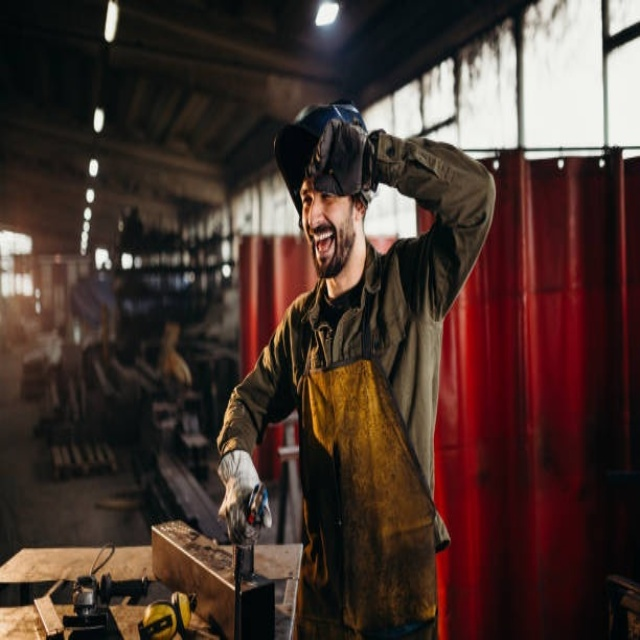Guantes: (305, 113, 385, 198), (215, 445, 272, 545)
Sin_gafas: (296, 188, 321, 211)
Sin_mascara: (312, 229, 335, 257)
